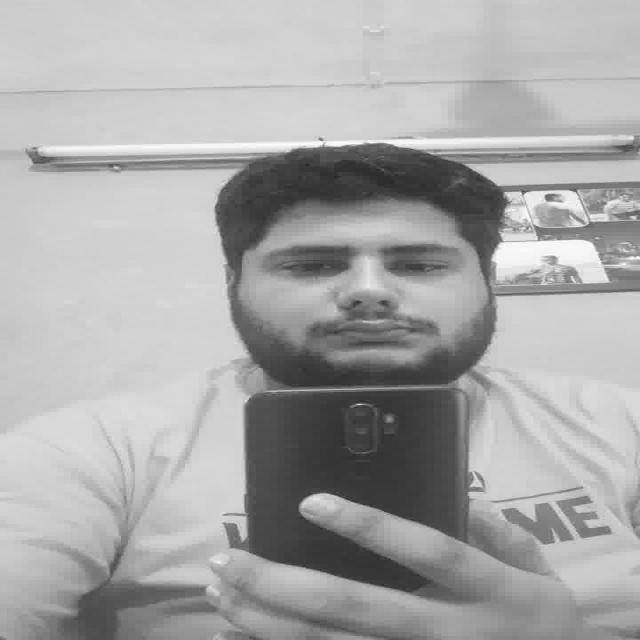fake: (238, 378, 476, 576)
